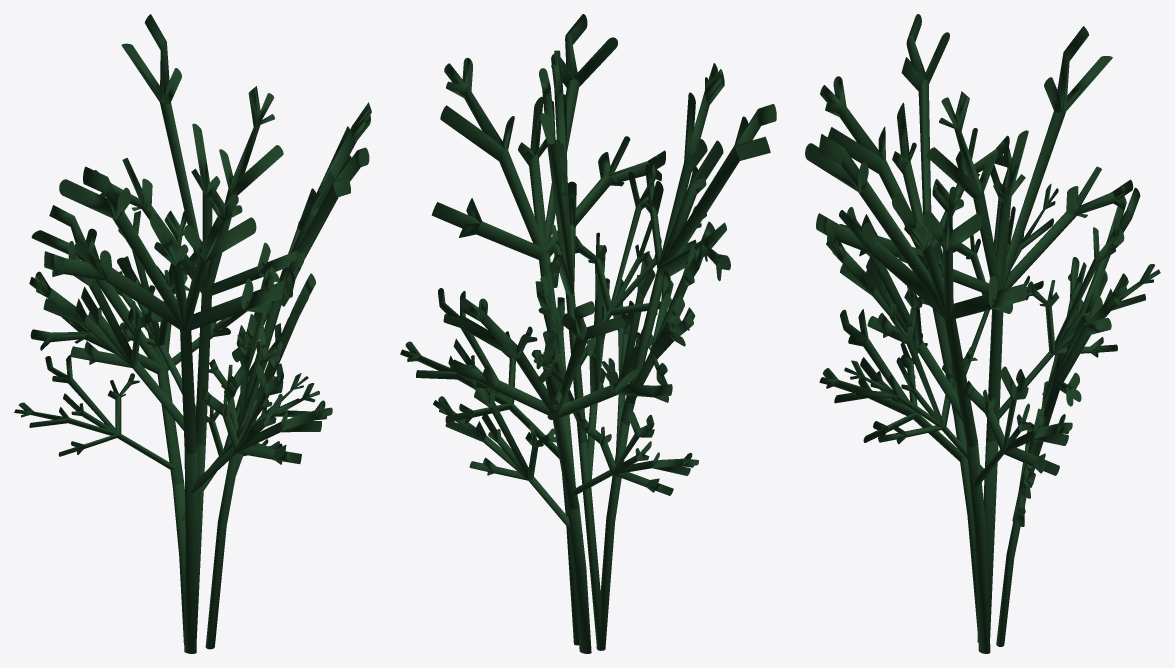
Rendered from dill.fbx.
The picture shows the model from 3 angles, left to right: view 1: azimuth 30°, elevation 25°; view 2: azimuth 150°, elevation 25°; view 3: azimuth 270°, elevation 25°; orthographic projection. The views are drawn at different scales.
Visible parts, largest first — view 1: dill; view 2: dill; view 3: dill.
Part boxes in pixels (x1,y1,x2,y2): dill: (14,14,371,653); dill: (400,14,776,653); dill: (805,14,1160,653).
Bounding box in the file's own units: 106 × 192 × 100.
